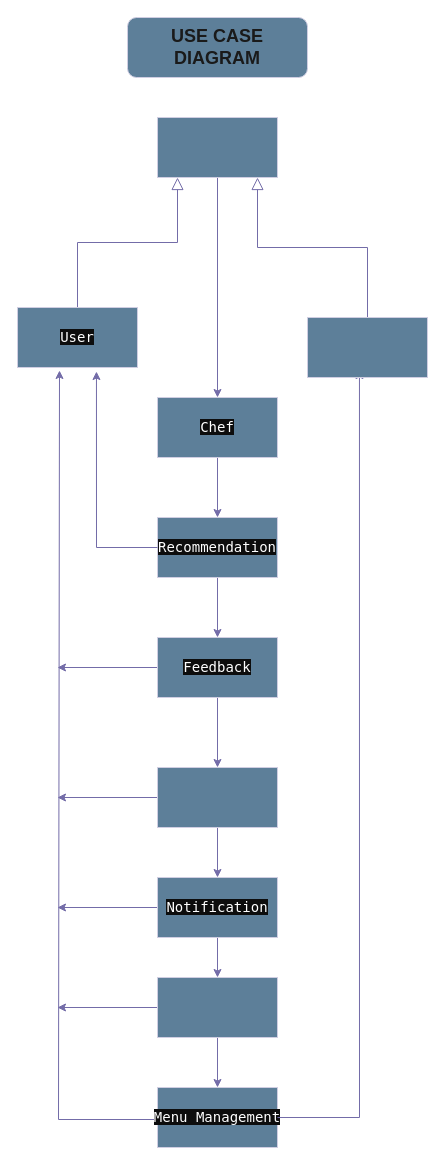
Image size: 445x1165. Some labels were removed from this diagram. Here are the shapes that lost their labels. From the top down, the box of each, then its label:
(156, 116, 278, 178): System
(306, 316, 428, 378): Admin
(156, 766, 278, 828): Reporting
(156, 976, 278, 1038): Authentication
